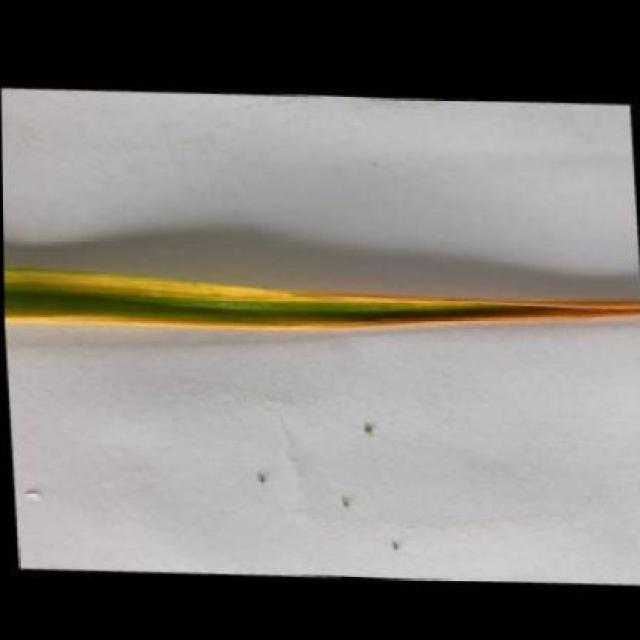Rice False Smut: (3, 269, 640, 327)
